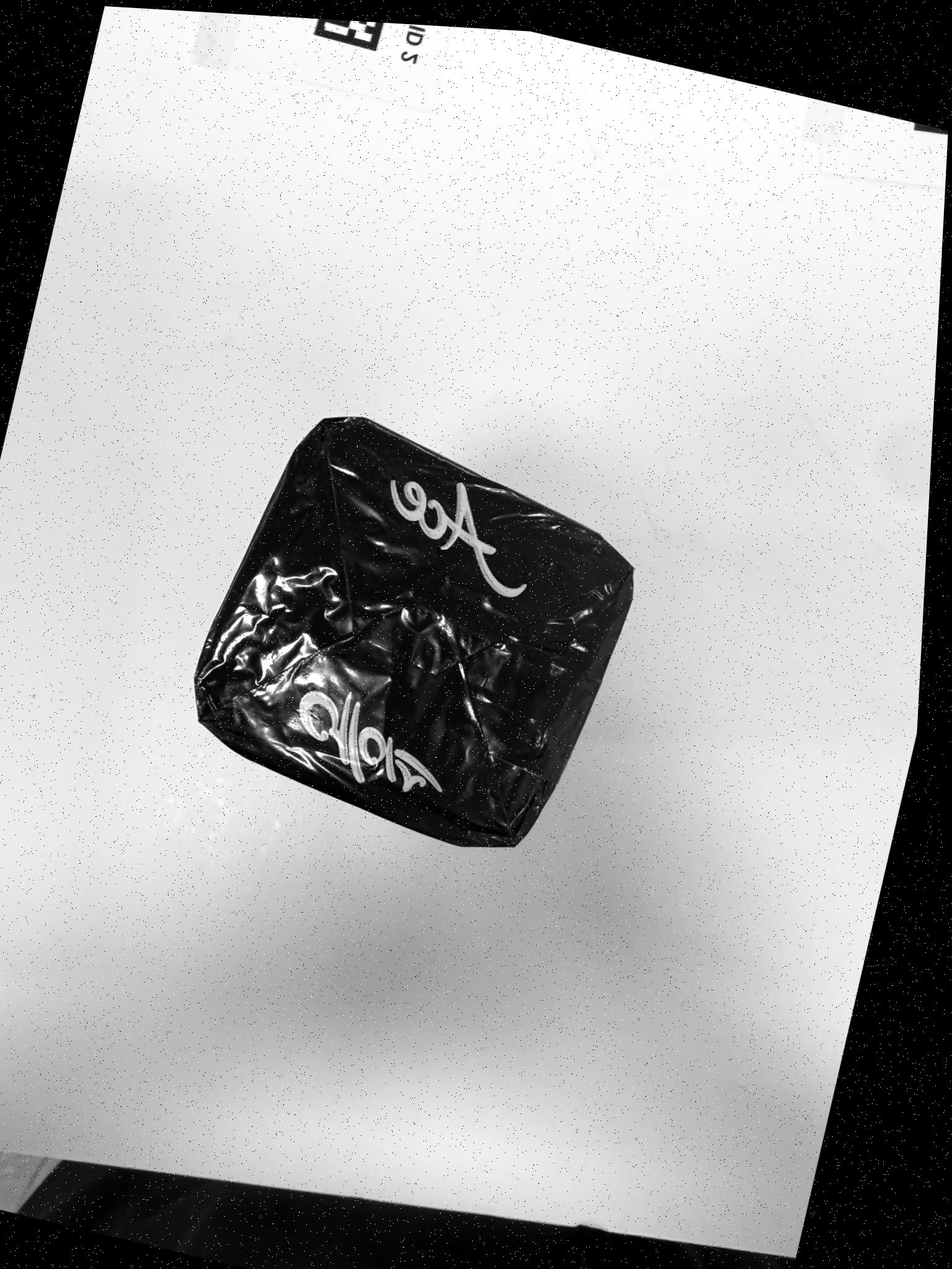cracker_ace: (195, 417, 633, 847)
